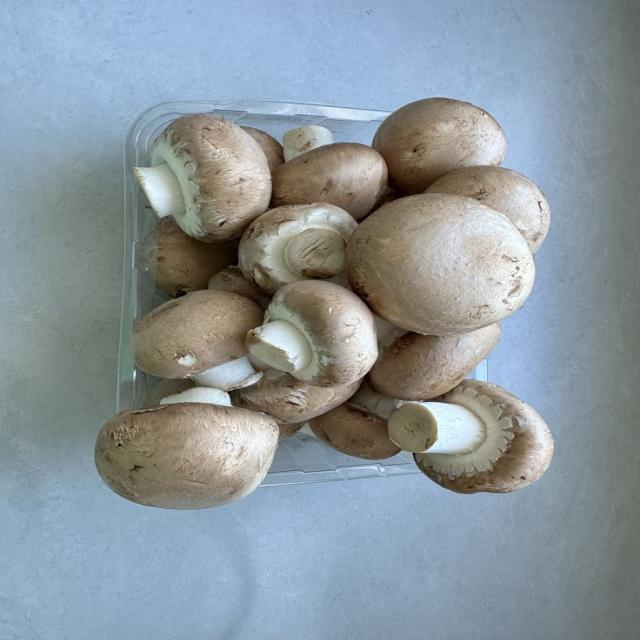champignon mushrooms: (347, 194, 534, 335), (95, 402, 278, 509), (388, 380, 553, 493), (134, 115, 271, 242), (247, 280, 377, 386), (132, 290, 262, 390), (373, 98, 506, 195), (239, 203, 357, 294), (426, 166, 550, 252), (368, 323, 500, 400), (272, 143, 386, 219), (141, 218, 237, 296), (309, 382, 399, 459), (232, 370, 360, 424), (208, 266, 271, 309), (242, 127, 284, 171), (283, 126, 333, 161), (159, 387, 232, 405), (145, 379, 195, 405), (279, 424, 301, 441)
